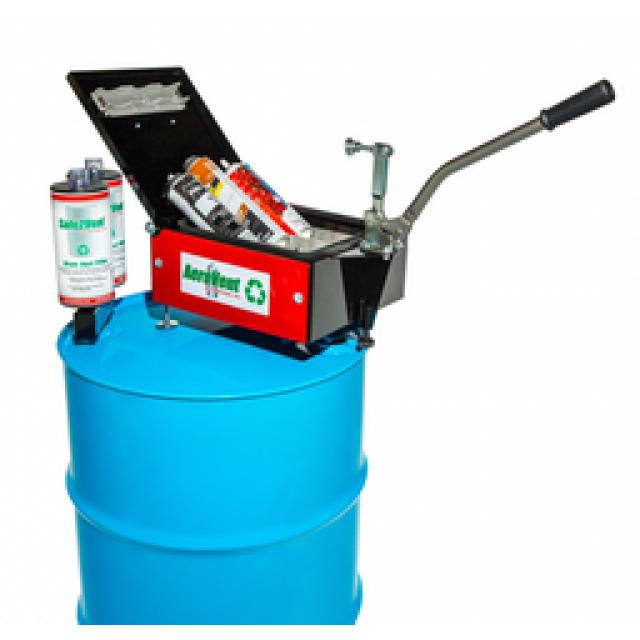B3: (144, 137, 319, 336)
zat_kimia: (62, 148, 344, 324), (44, 156, 134, 315)
